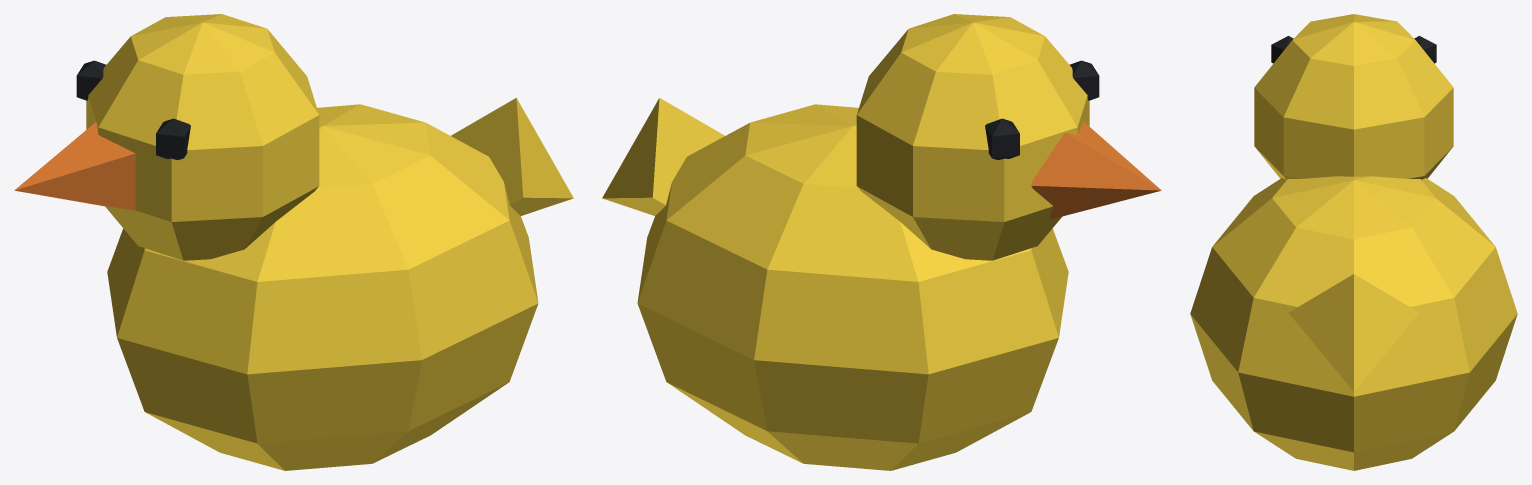
Rendered from duck.fbx.
3 views of the same model, side by side, from view 1: azimuth 30°, elevation 25°; view 2: azimuth 150°, elevation 25°; view 3: azimuth 270°, elevation 25° (orthographic). The views are drawn at different scales.
Parts seen in each view (by area): view 1: duck; view 2: duck; view 3: duck.
Boxes of the visible parts, x1=… form: duck: x1=14, y1=14, x2=573, y2=470; duck: x1=602, y1=14, x2=1161, y2=470; duck: x1=1190, y1=14, x2=1517, y2=470.
Bounding box in the file's own units: 0.6527 × 0.508 × 0.4.
